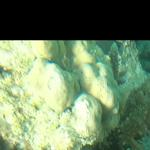dead: (1, 42, 147, 148)
